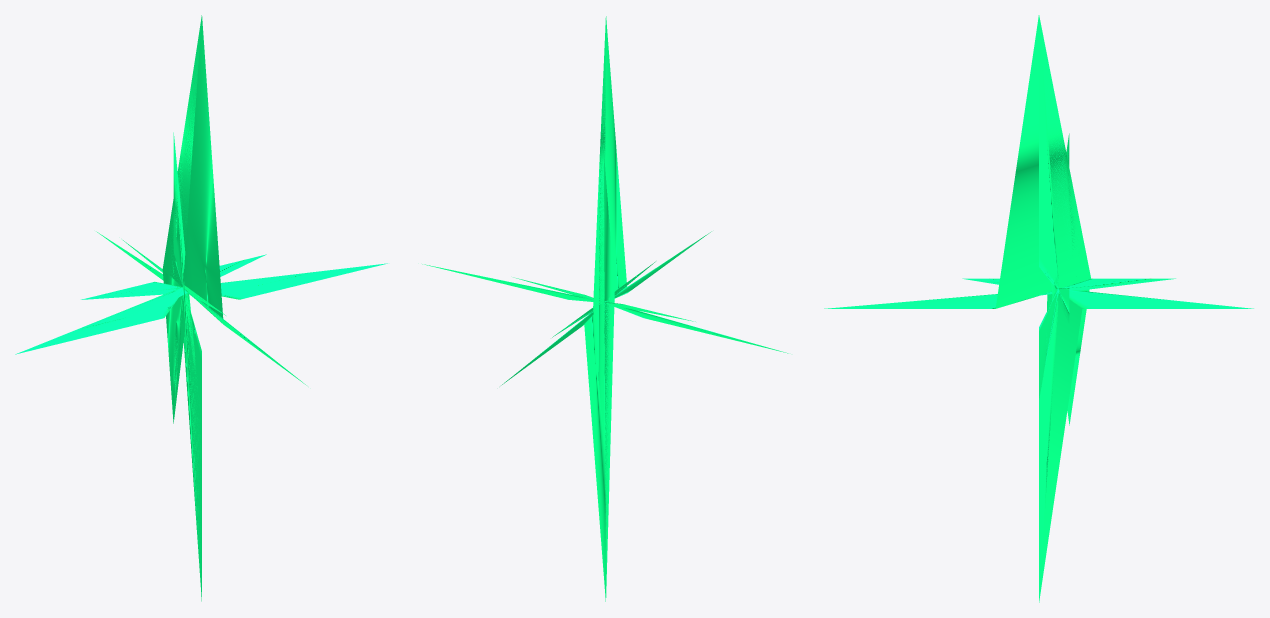
The model's file is twentyfour_cell_projectable_ar_universal.glb.
3 renders of one model, left to right at view 1: azimuth 30°, elevation 25°; view 2: azimuth 150°, elevation 25°; view 3: azimuth 270°, elevation 25°, orthographic.
Parts seen in each view (by area): view 1: twentyfour_cell_projectable_ar; view 2: twentyfour_cell_projectable_ar; view 3: twentyfour_cell_projectable_ar.
Boxes of the visible parts, box(x1,y1,x2,y2) form: twentyfour_cell_projectable_ar: box(15, 15, 387, 601); twentyfour_cell_projectable_ar: box(422, 16, 788, 601); twentyfour_cell_projectable_ar: box(824, 15, 1253, 602).
Size of the model in its own units: 0.6667 by 1 by 0.6667.
